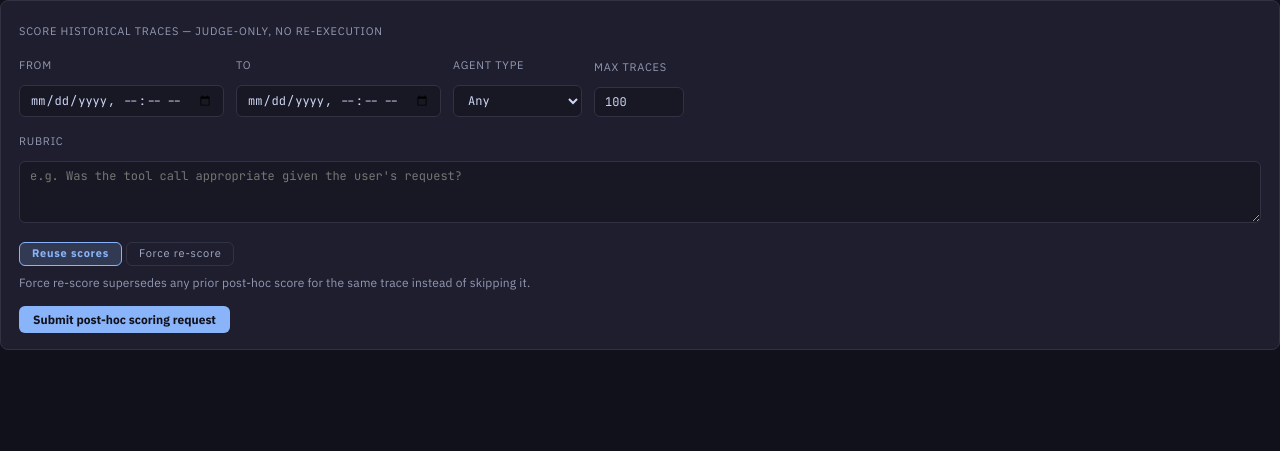
it: PostHocView (T4: summary loading + runId data-face) › renders the run id on the data face (JetBrains Mono), not the UI face
In the text box with placeholder "Was the tool call appropriate": (640, 192) [19,161,1261,223], type "Judge quality"
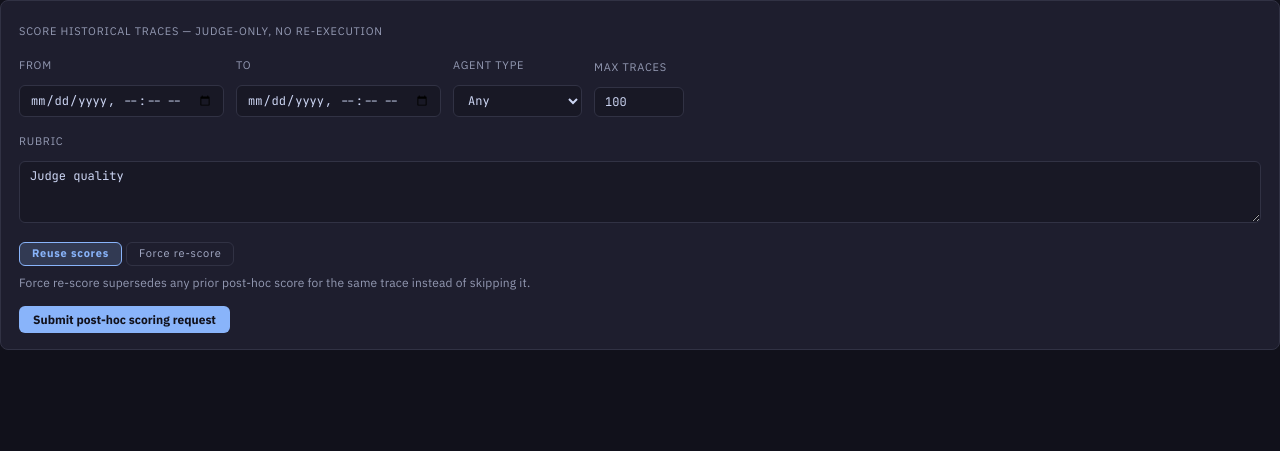
In the field named "From date": (122, 101) [19,85,224,117], type "2026-07-01T00:00"
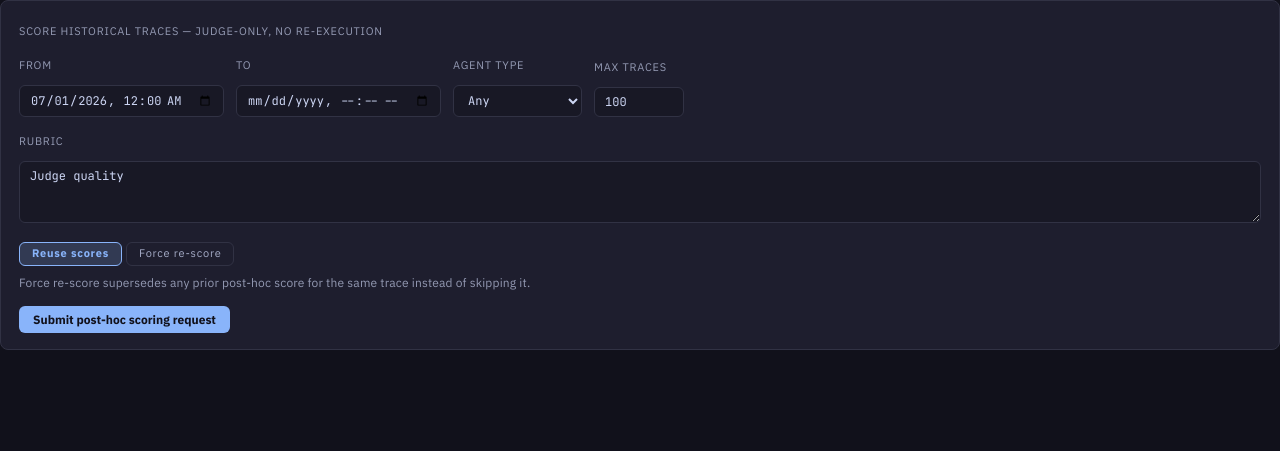
In the field named "To date": (338, 101) [236,85,441,117], type "2026-07-02T00:00"
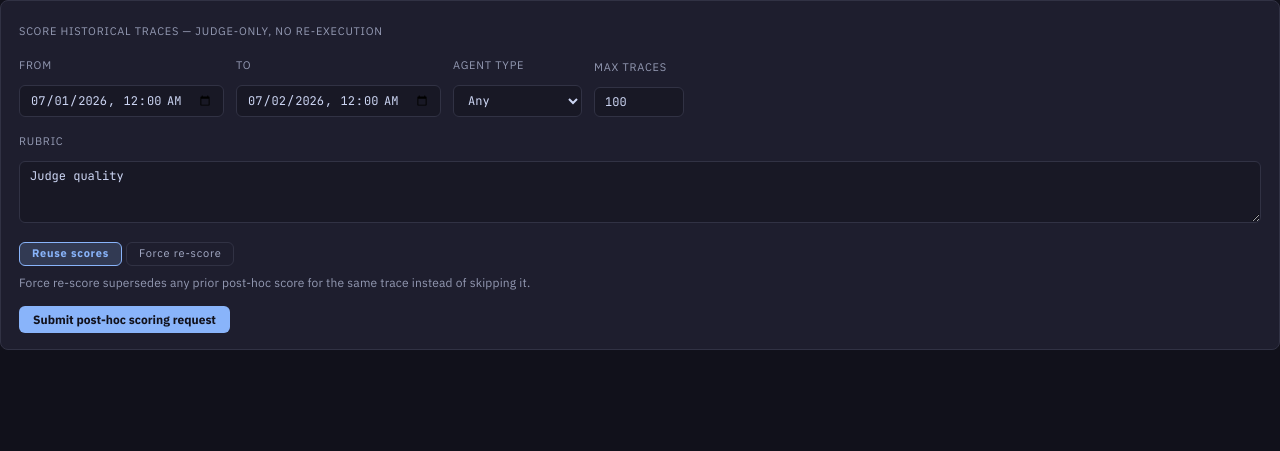
Click the button "Submit post-hoc scoring request": (124, 319) [19,306,230,333]
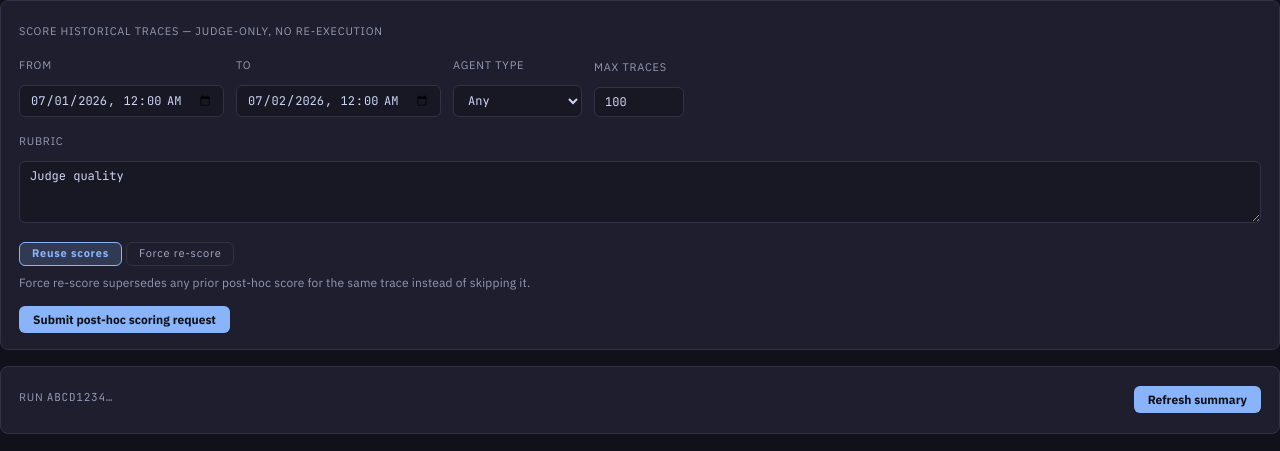
Check: the text "abcd1234…" is shown, box [47,390,113,404]
